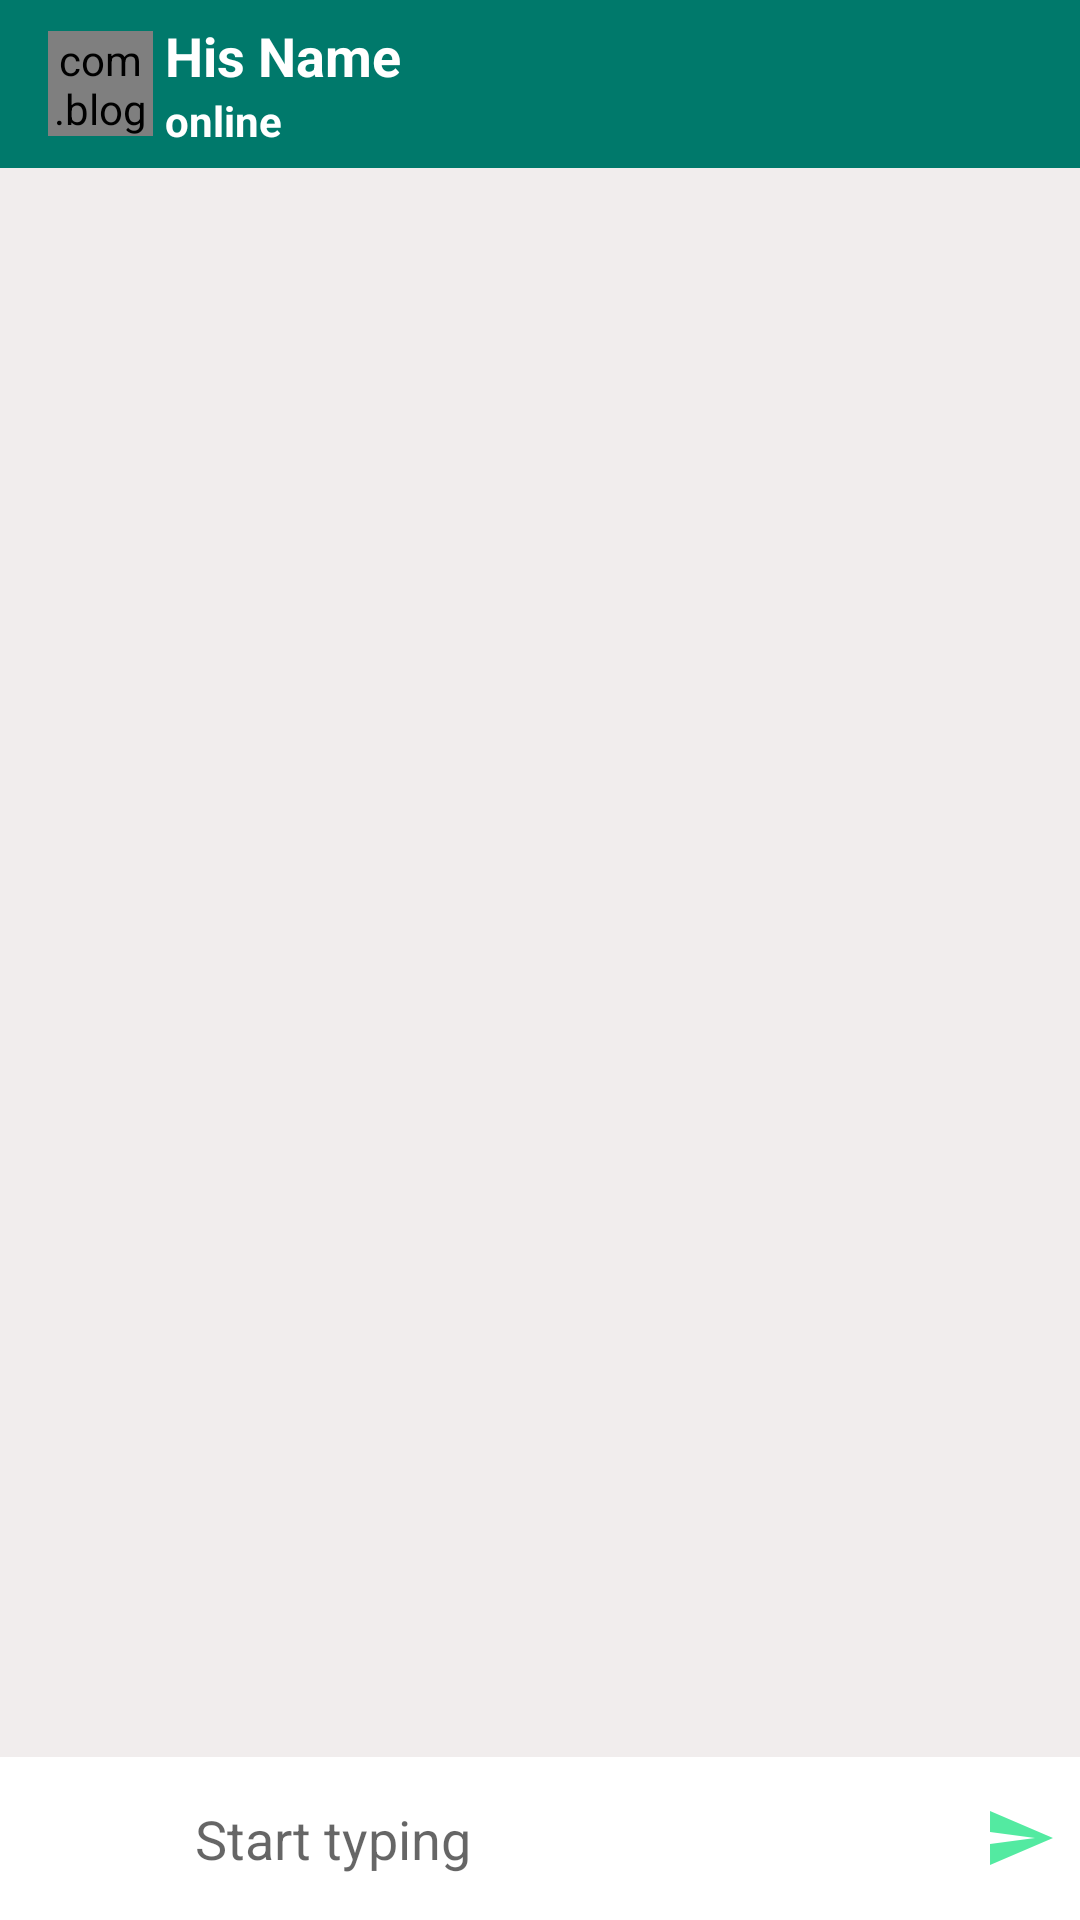

Icons on this 1080 × 1920 Android screen, each with the point to tap as (x=x, y=y):
send: (x=1021, y=1838)
